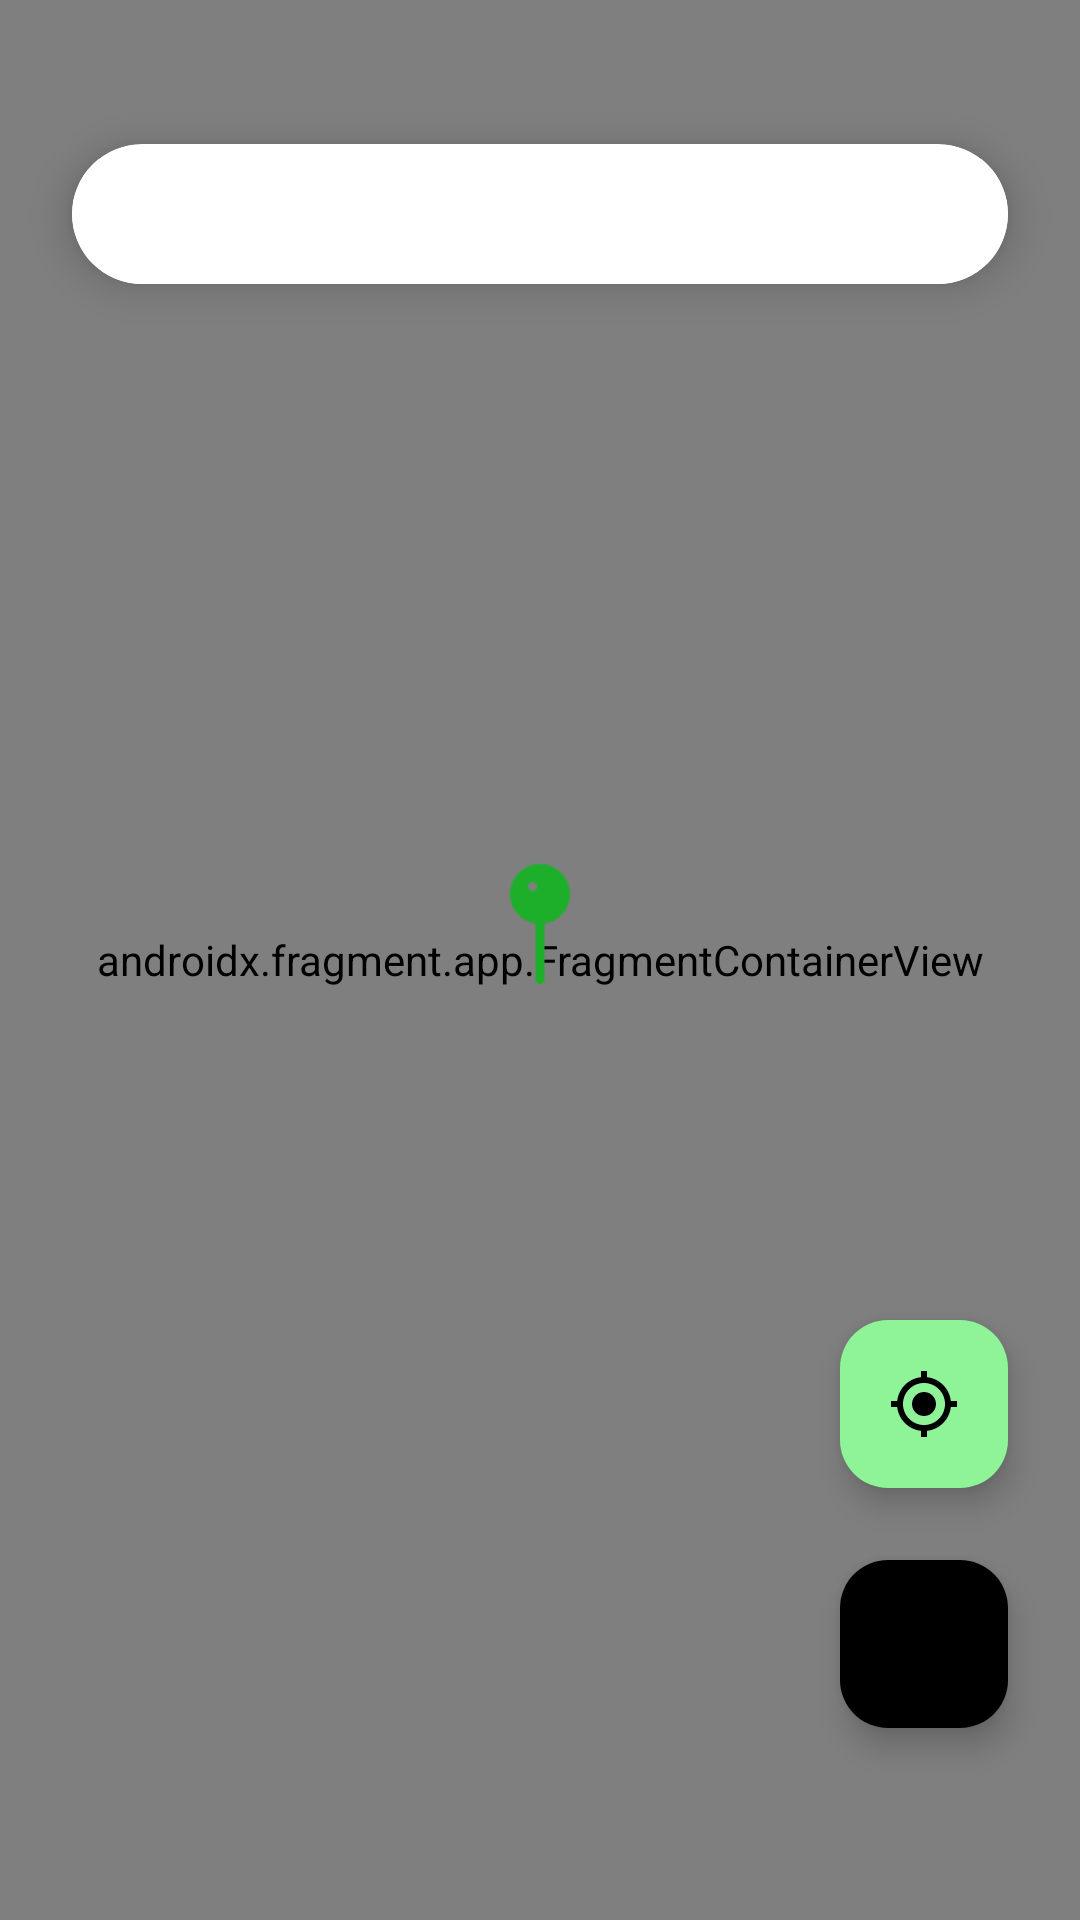

Named icons in this screenshot (1080 x 1920) and their centers, (x,y):
location: (924,1404)
